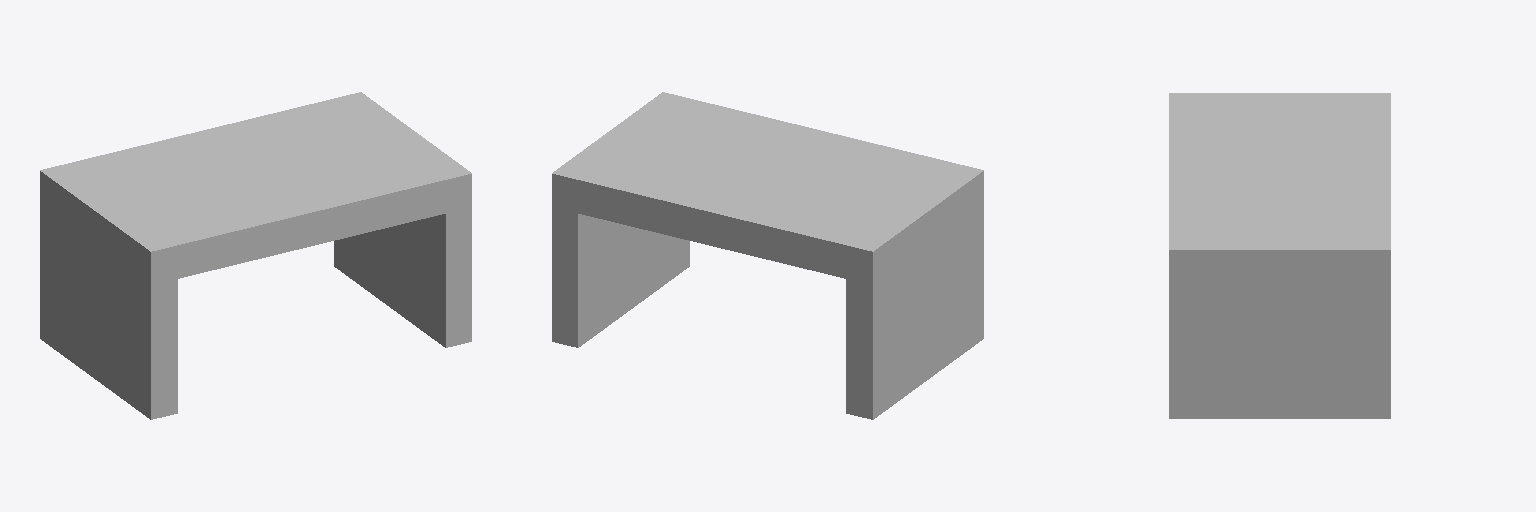
File: Table1.obj
3 renders of one model, left to right at view 1: azimuth 30°, elevation 25°; view 2: azimuth 150°, elevation 25°; view 3: azimuth 270°, elevation 25°, orthographic.
Visible parts, largest first — view 1: Table1; view 2: Table1; view 3: Table1.
Part boxes in pixels (bbox=[...]): Table1: bbox=[40, 92, 471, 419]; Table1: bbox=[552, 92, 983, 419]; Table1: bbox=[1169, 93, 1390, 418].
Size of the model in its own units: 2 by 1 by 1.2.